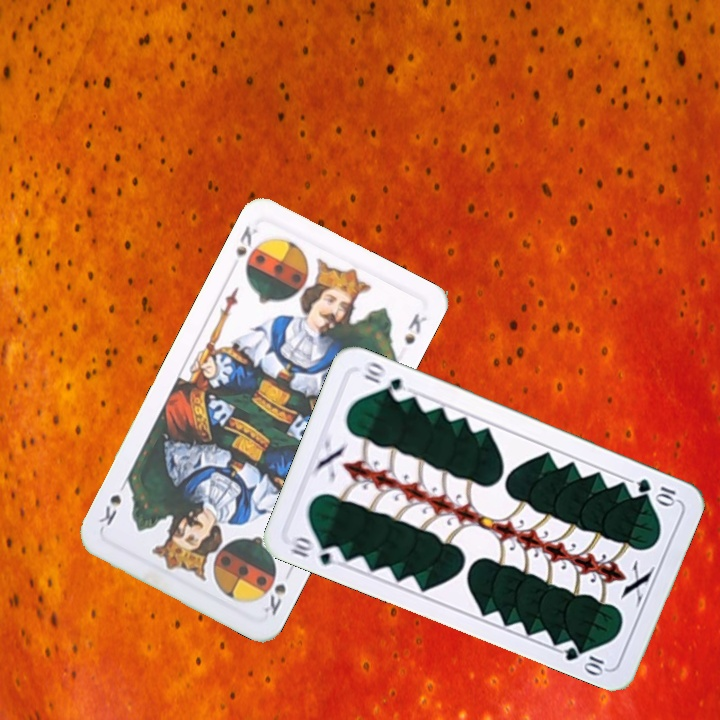G10: (286, 532, 346, 569), (633, 474, 680, 508)
SK: (259, 564, 295, 618), (231, 221, 260, 261)
